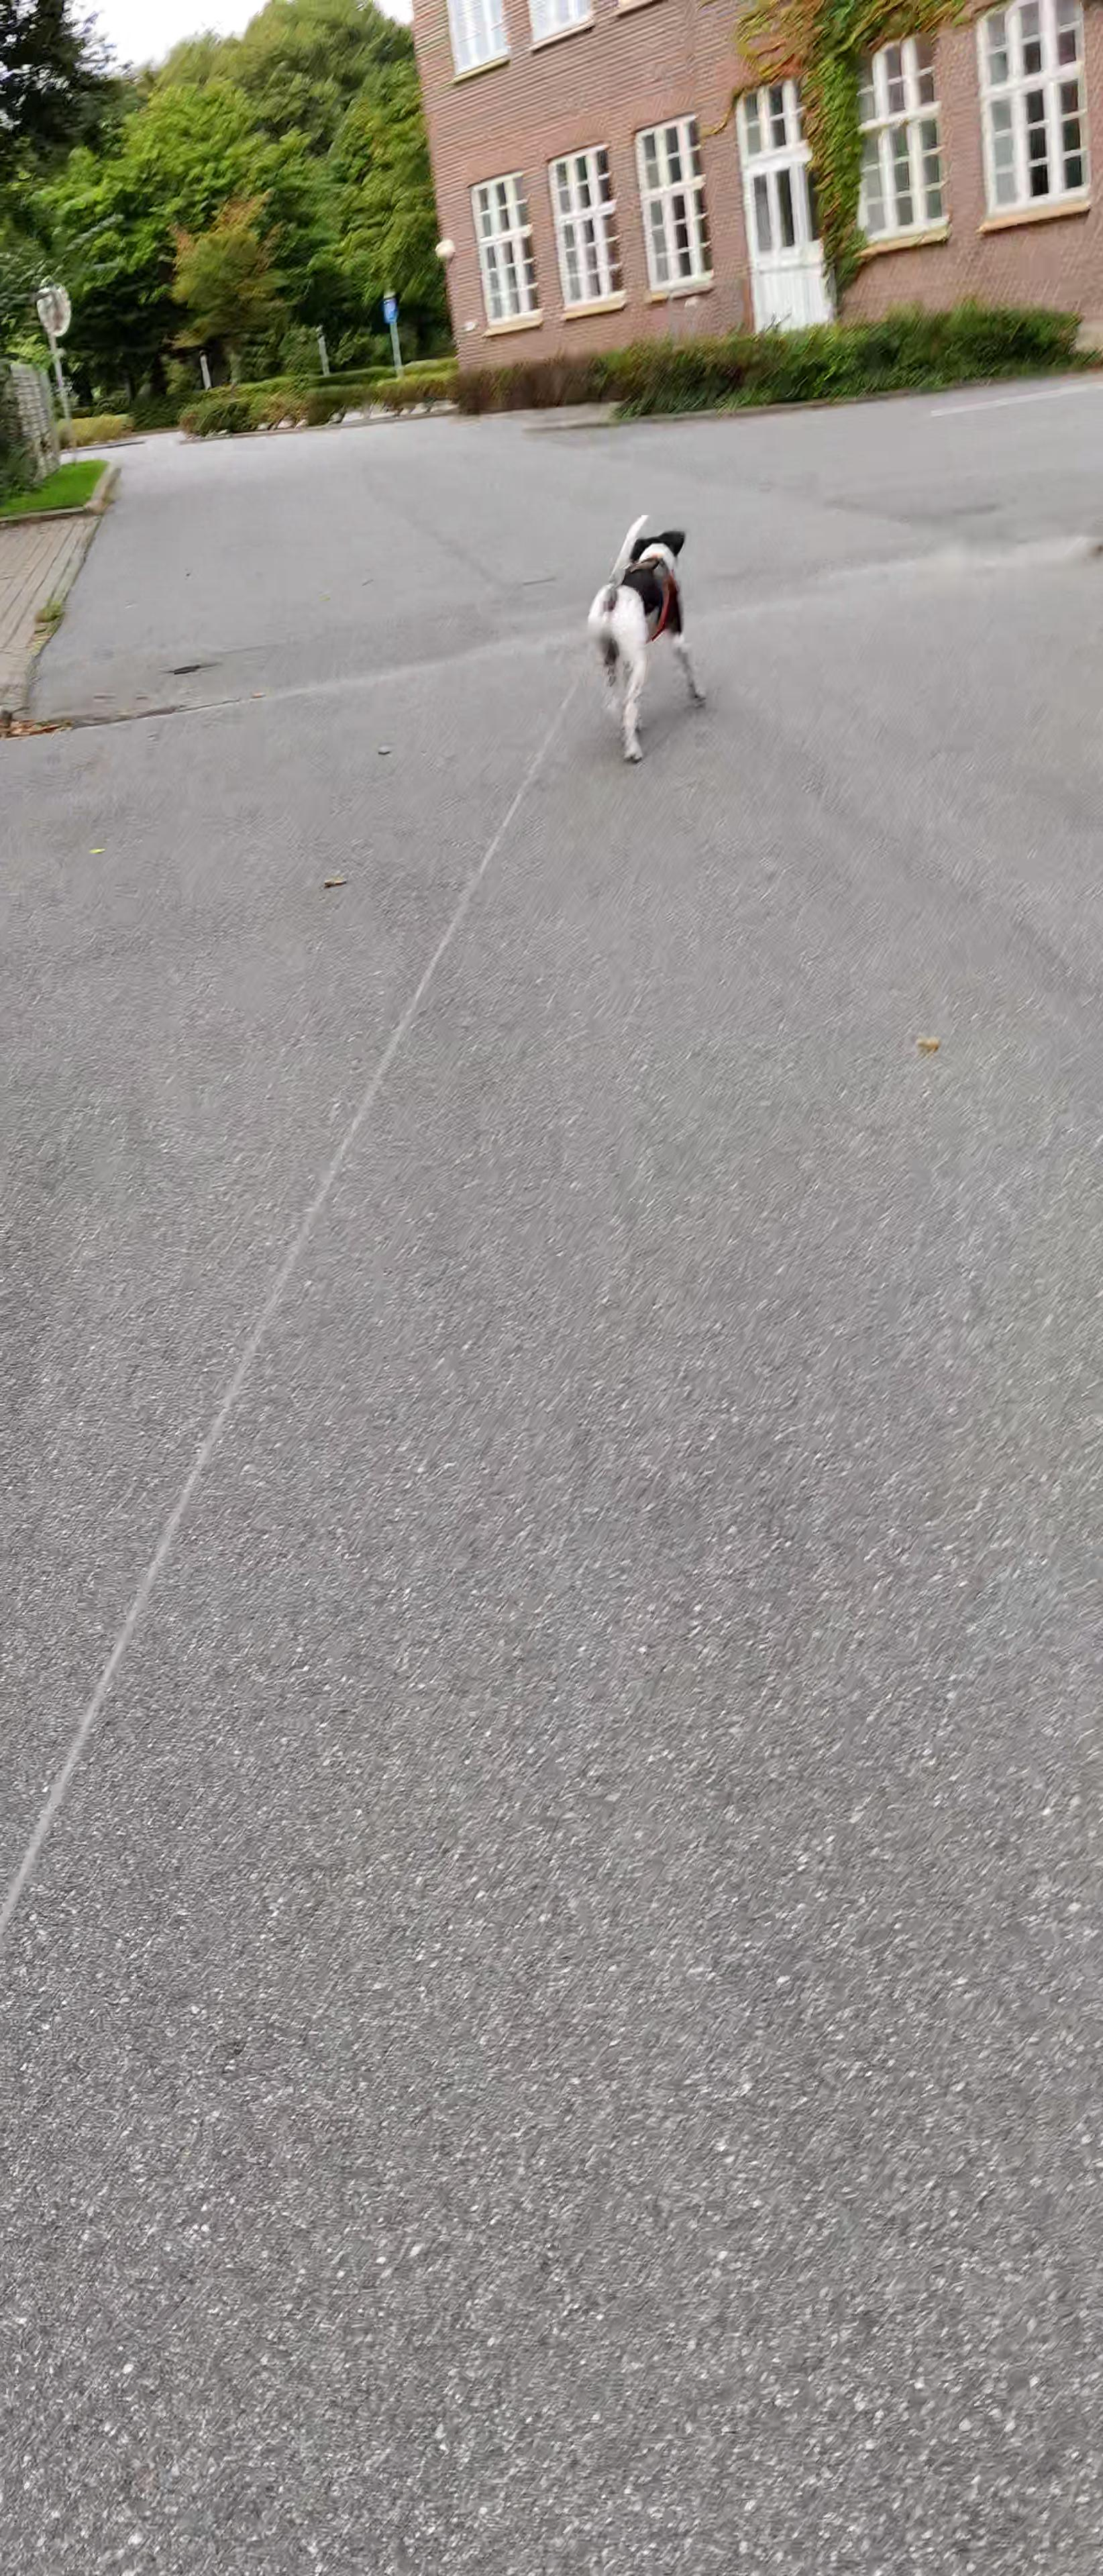Dog: (565, 499, 723, 779)
